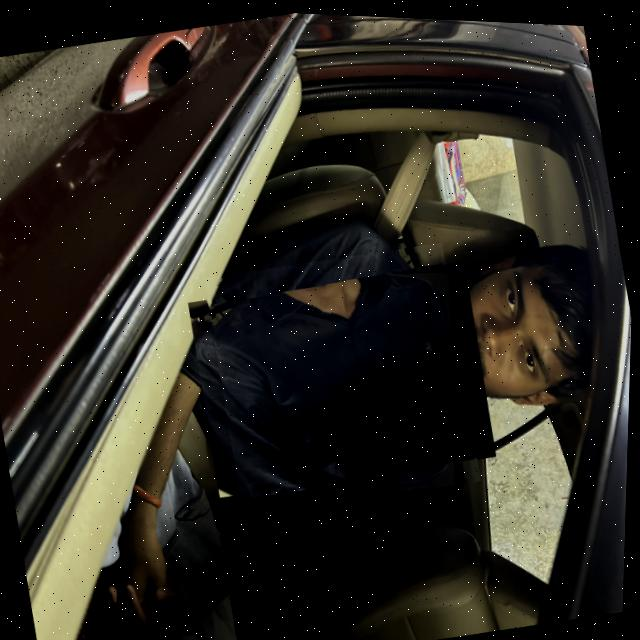no-seatbelt: (200, 229, 490, 522)
